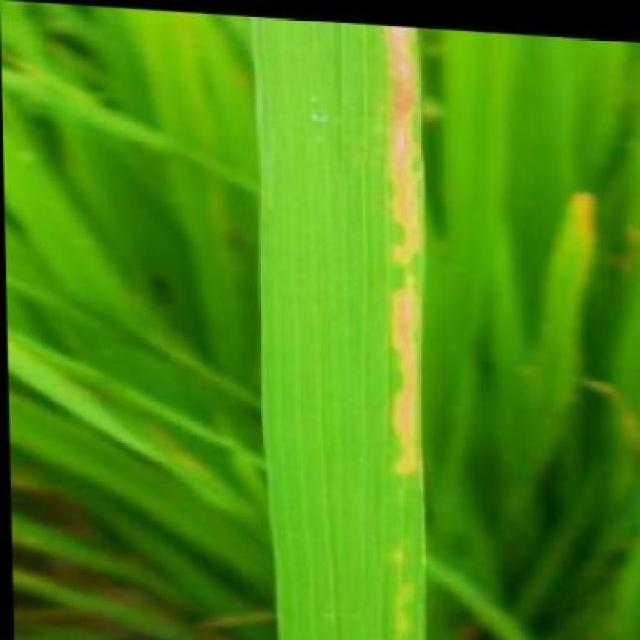Brown_Spot: (242, 12, 427, 640)
